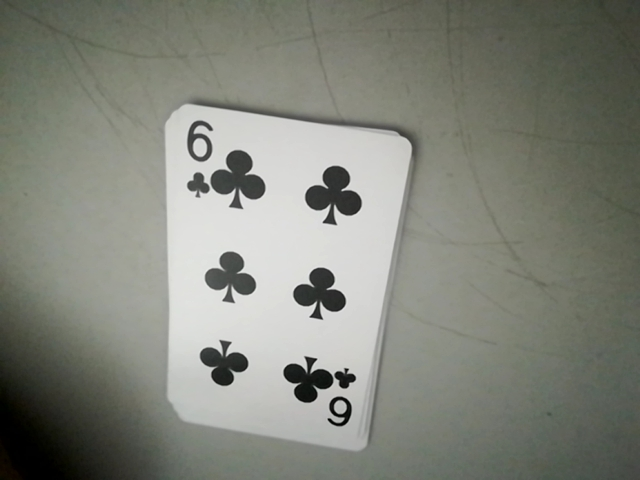mh 6: (177, 114, 211, 209), (327, 366, 365, 439)
